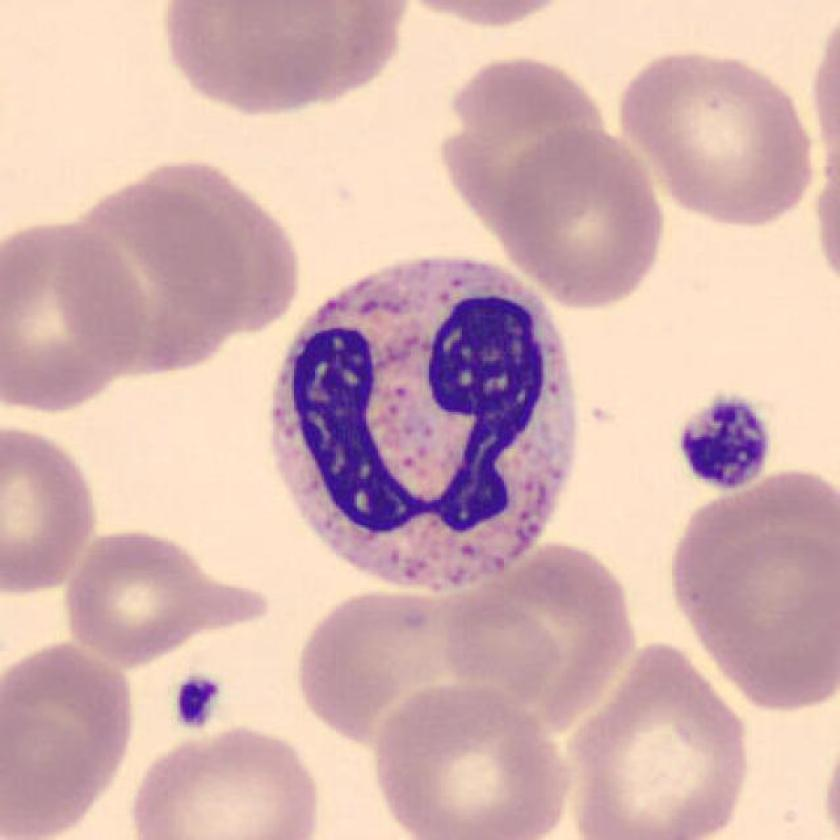neutrophil: (270, 261, 580, 590)
